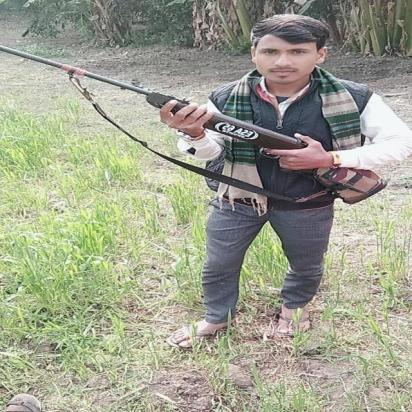Gun: (0, 44, 391, 206)
